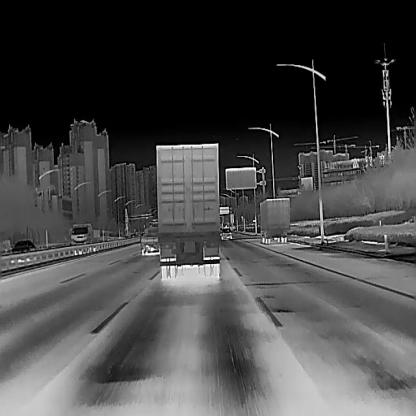car: (260, 197, 290, 243), (140, 226, 160, 254), (9, 239, 36, 254), (219, 227, 232, 239)
truck: (155, 142, 219, 277), (70, 223, 100, 243)
